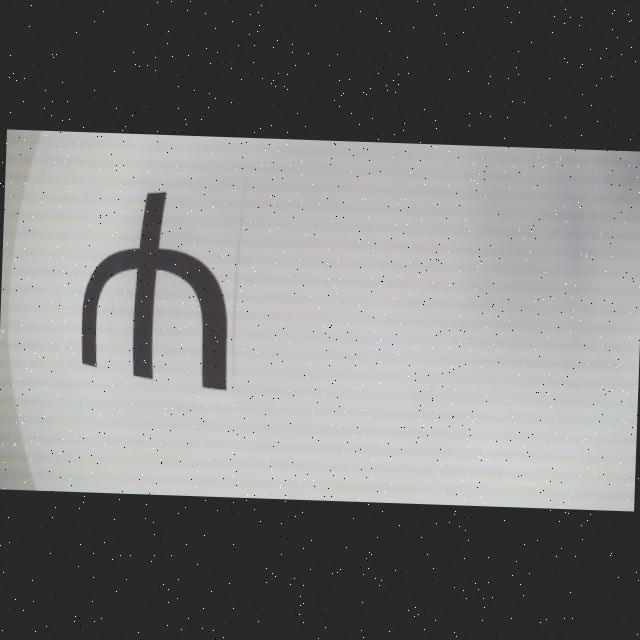PSI: (78, 188, 234, 391)
